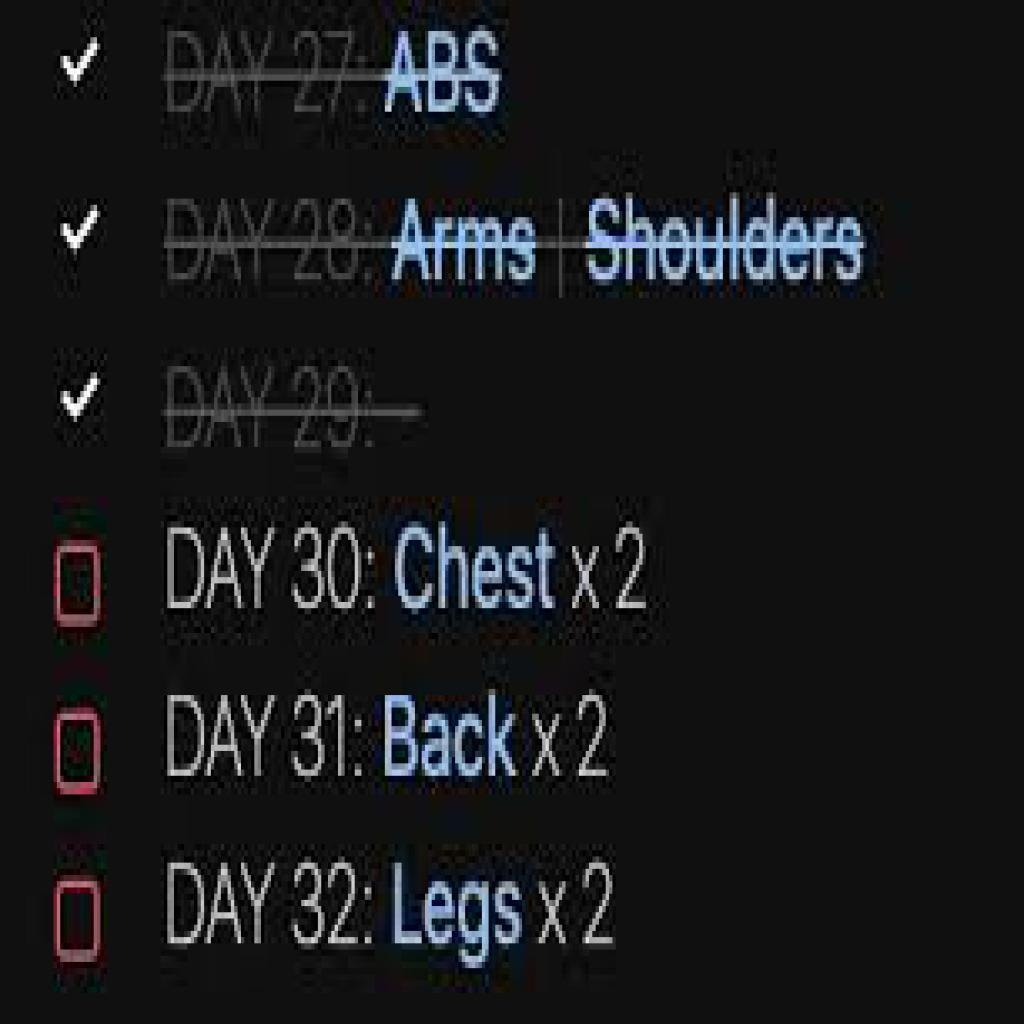checkbox: (56, 545, 102, 625), (56, 884, 101, 960), (61, 713, 100, 793)
icon: (51, 203, 100, 256), (54, 37, 97, 91), (58, 371, 99, 421)
